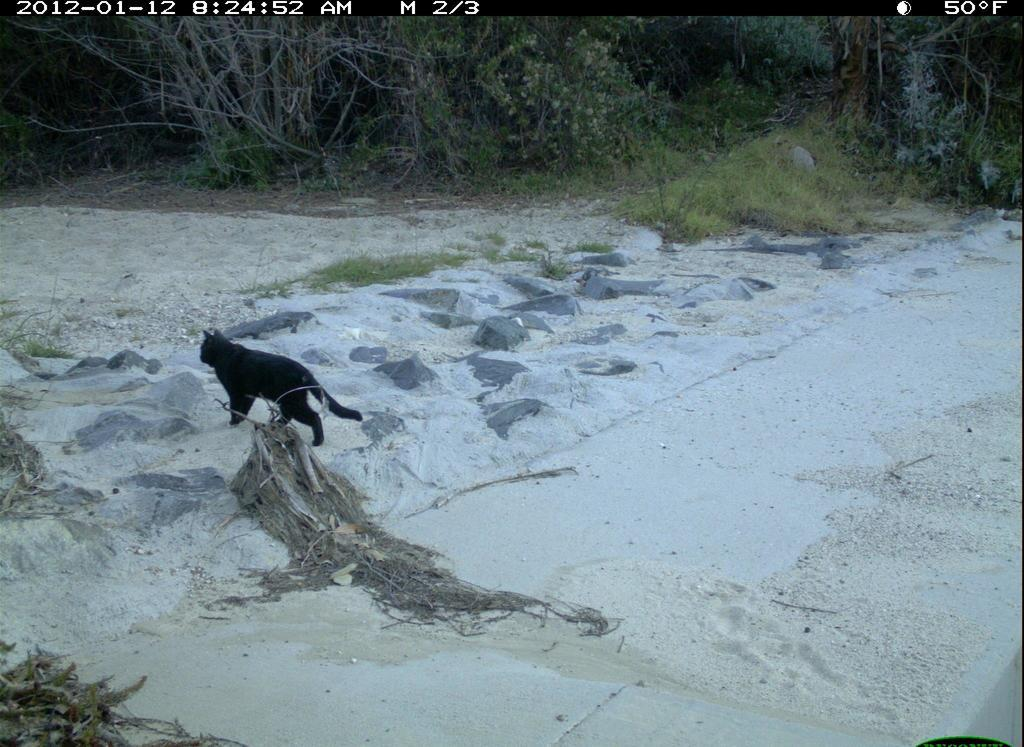cat: (185, 322, 367, 455)
